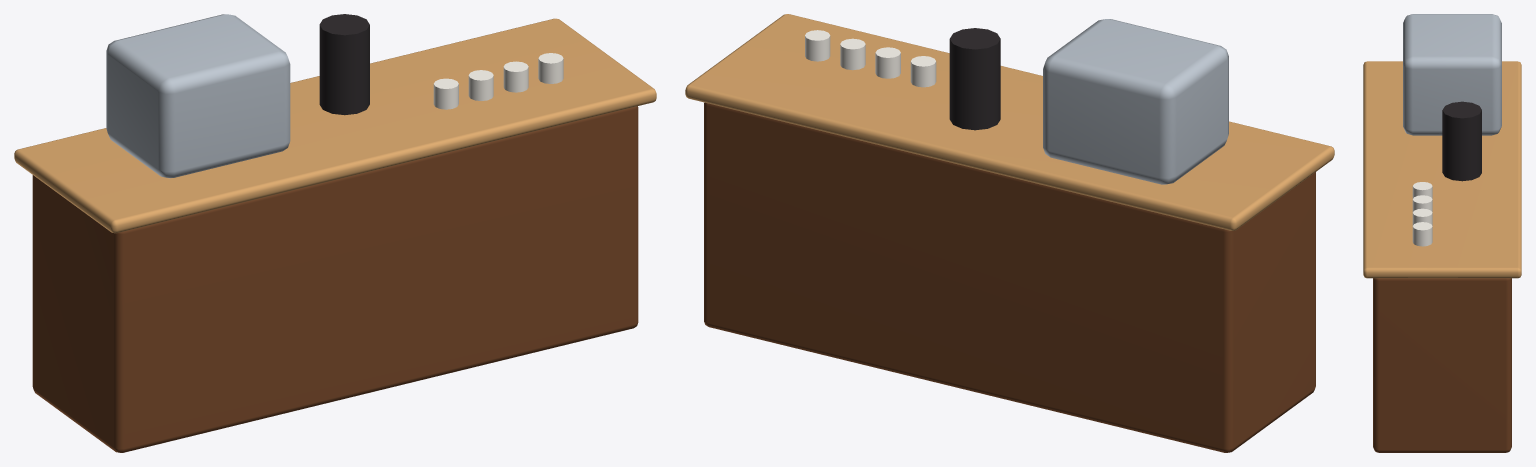
The model's file is coffee_bar.glb.
The picture shows the model from 3 angles, left to right: view 1: azimuth 30°, elevation 25°; view 2: azimuth 150°, elevation 25°; view 3: azimuth 270°, elevation 25°; orthographic projection. The views are drawn at different scales.
Visible parts, largest first — view 1: Body, Top, Machine, Grinder, Cup, Cup.002, Cup.001, Cup.003; view 2: Body, Top, Machine, Grinder, Cup, Cup.001, Cup.003, Cup.002; view 3: Top, Body, Machine, Grinder, Cup.003, Cup.001, Cup, Cup.002.
Part boxes in pixels (x1,y1,x2,y2): Body: (32,106,638,452); Top: (14,18,656,233); Machine: (106,14,290,178); Grinder: (319,14,369,115); Cup: (433,78,458,109); Cup.002: (503,61,528,92); Cup.001: (468,70,493,100); Cup.003: (538,53,563,83); Body: (704,102,1315,452); Top: (685,14,1334,230); Machine: (1043,19,1228,184); Grinder: (949,28,1000,130); Cup: (910,56,936,87); Cup.001: (875,47,900,78); Cup.003: (805,30,830,61); Cup.002: (840,38,865,70); Top: (1363,61,1521,278); Body: (1373,278,1511,452); Machine: (1403,14,1501,135); Grinder: (1442,101,1481,181); Cup.003: (1412,222,1432,246); Cup.001: (1412,195,1432,212); Cup: (1412,182,1432,198); Cup.002: (1412,208,1432,225).
Bounding box in the file's own units: 2.5 × 1.5 × 0.8.
